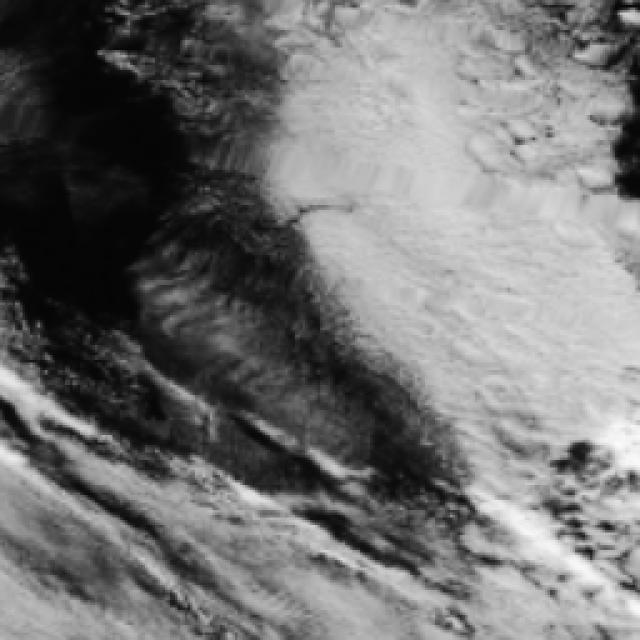CB: (439, 207, 640, 380), (363, 137, 561, 297), (326, 21, 511, 176)
